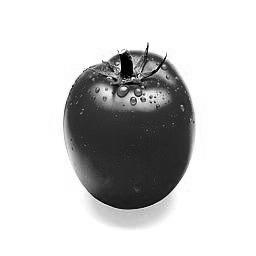bukan telur: (62, 48, 195, 209)
